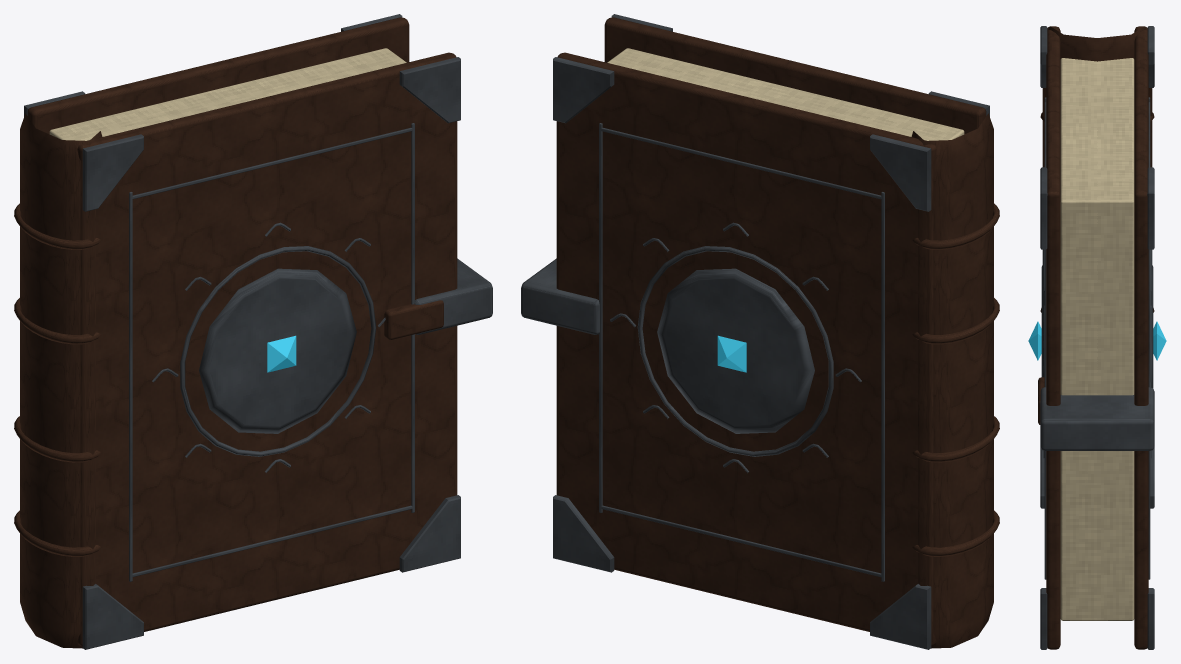
File: grimoire.lod1.glb
3 views of the same model, side by side, from view 1: azimuth 30°, elevation 25°; view 2: azimuth 150°, elevation 25°; view 3: azimuth 270°, elevation 25° (orthographic). The views are drawn at different scales.
Visible parts, largest first — view 1: leather / oiled leather wrap, darksteel / oil-blackened fittings, paper / paper and vellum, crystal / faceted crystal; view 2: leather / oiled leather wrap, darksteel / oil-blackened fittings, paper / paper and vellum, crystal / faceted crystal; view 3: paper / paper and vellum, leather / oiled leather wrap, darksteel / oil-blackened fittings, crystal / faceted crystal.
Part boxes in pixels (x1,y1,x2,y2): leather / oiled leather wrap: (14, 17, 457, 648); darksteel / oil-blackened fittings: (24, 14, 492, 649); paper / paper and vellum: (49, 48, 406, 140); crystal / faceted crystal: (267, 335, 296, 372); leather / oiled leather wrap: (556, 17, 999, 648); darksteel / oil-blackened fittings: (521, 14, 989, 649); paper / paper and vellum: (607, 48, 964, 140); crystal / faceted crystal: (717, 335, 746, 372); paper / paper and vellum: (1060, 58, 1134, 620); leather / oiled leather wrap: (1038, 26, 1154, 649); darksteel / oil-blackened fittings: (1040, 26, 1154, 649); crystal / faceted crystal: (1028, 321, 1166, 360).
Size of the model in its own units: 0.3875 by 0.43 by 0.1162.
Materials: 4 (3 with a texture image).
